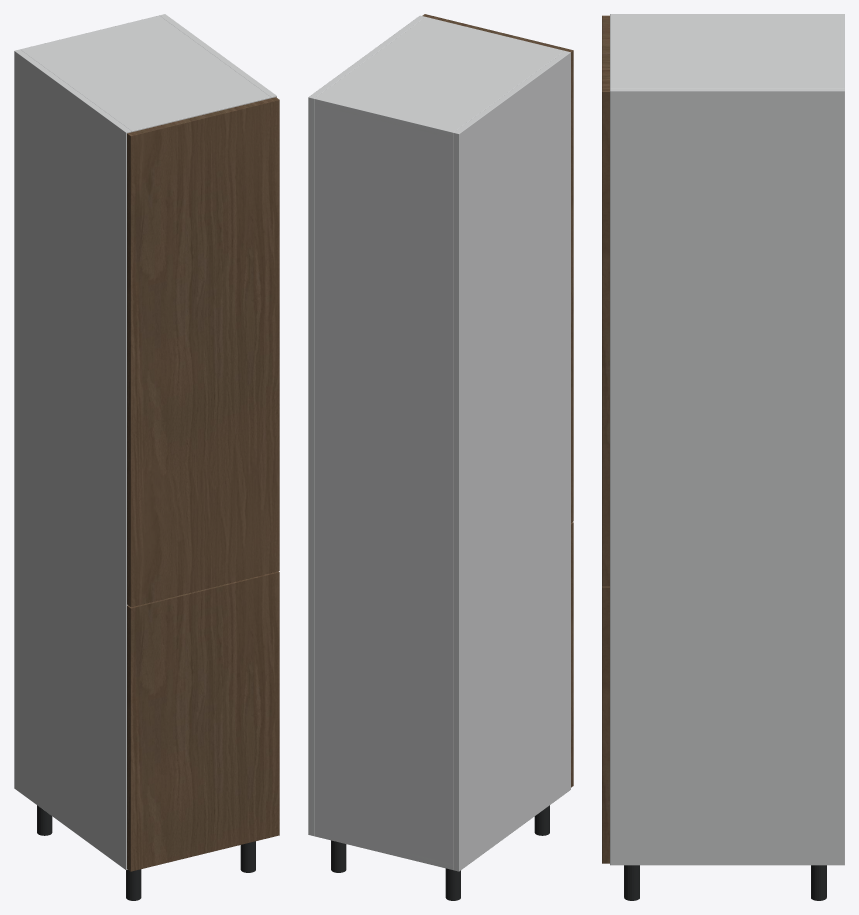
Rendered from oppein-pb-mso-pc1884.glb.
3 renders of one model, left to right at view 1: azimuth 30°, elevation 25°; view 2: azimuth 150°, elevation 25°; view 3: azimuth 270°, elevation 25°, orthographic. The views are drawn at different scales.
Visible parts, largest first — view 1: Cabinet side, Upper pantry door, Lower pantry door, Cabinet top, Cabinet side.001; view 2: Cabinet back, Cabinet side, Cabinet top, Cabinet side.001, Upper pantry door, Lower pantry door; view 3: Cabinet side.001, Cabinet top, Upper pantry door, Lower pantry door, Cabinet side, Adjustable foot.002, Adjustable foot.003.
Boxes of the visible parts, <box> form: Cabinet side: <box>14,49,131,869</box>; Upper pantry door: <box>127,97,279,606</box>; Lower pantry door: <box>127,571,279,871</box>; Cabinet top: <box>22,17,270,131</box>; Cabinet side.001: <box>159,14,276,98</box>; Cabinet back: <box>314,97,454,869</box>; Cabinet side: <box>453,51,570,871</box>; Cabinet top: <box>314,17,564,138</box>; Cabinet side.001: <box>308,15,425,835</box>; Upper pantry door: <box>422,14,573,522</box>; Lower pantry door: <box>571,522,573,787</box>; Cabinet side.001: <box>610,88,844,865</box>; Cabinet top: <box>610,17,840,88</box>; Upper pantry door: <box>602,15,609,586</box>; Lower pantry door: <box>602,586,609,863</box>; Cabinet side: <box>610,14,844,16</box>; Adjustable foot.002: <box>811,865,826,900</box>; Adjustable foot.003: <box>624,865,639,900</box>.
Size of the model in its own units: 0.4572 by 2.25 by 0.6064.
3 materials, 1 textured.
